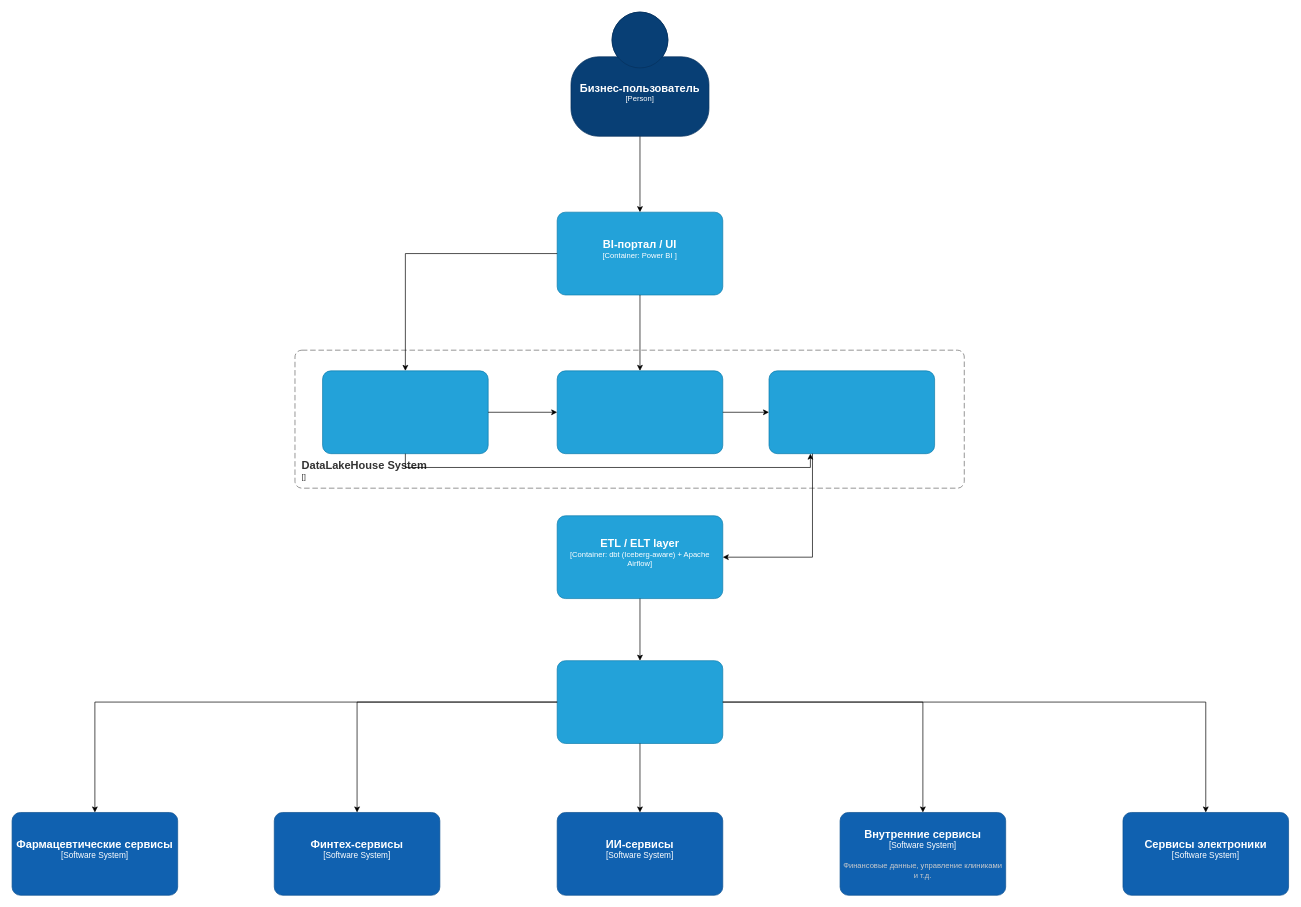
Some shapes in this 1301 by 907 pixel diagram are drawn without their labels. The shapes that lost their labels are listed below. From the top down, each one's centre as x and y in pixels, then its label:
At point (405, 412): "Data Catalog [Container: DataHub] lineage, SLA, RLS, DataMesh".
At point (639, 412): "Query Engine (SQL) [Container: Trino / PrestoSQL ]".
At point (851, 412): "Data Lakehouse [Container: Object Storage, Apache Iceberg]".
At point (639, 701): "Ingestion Layer [Container: Kafka, Debezium (CDC), API Connectors]".
